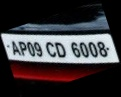character: (53, 42, 66, 57), (45, 41, 56, 58), (70, 42, 81, 58), (87, 41, 98, 57), (96, 41, 107, 57), (79, 41, 89, 58), (17, 40, 27, 56), (11, 40, 21, 55), (33, 41, 42, 57), (26, 41, 35, 56)
